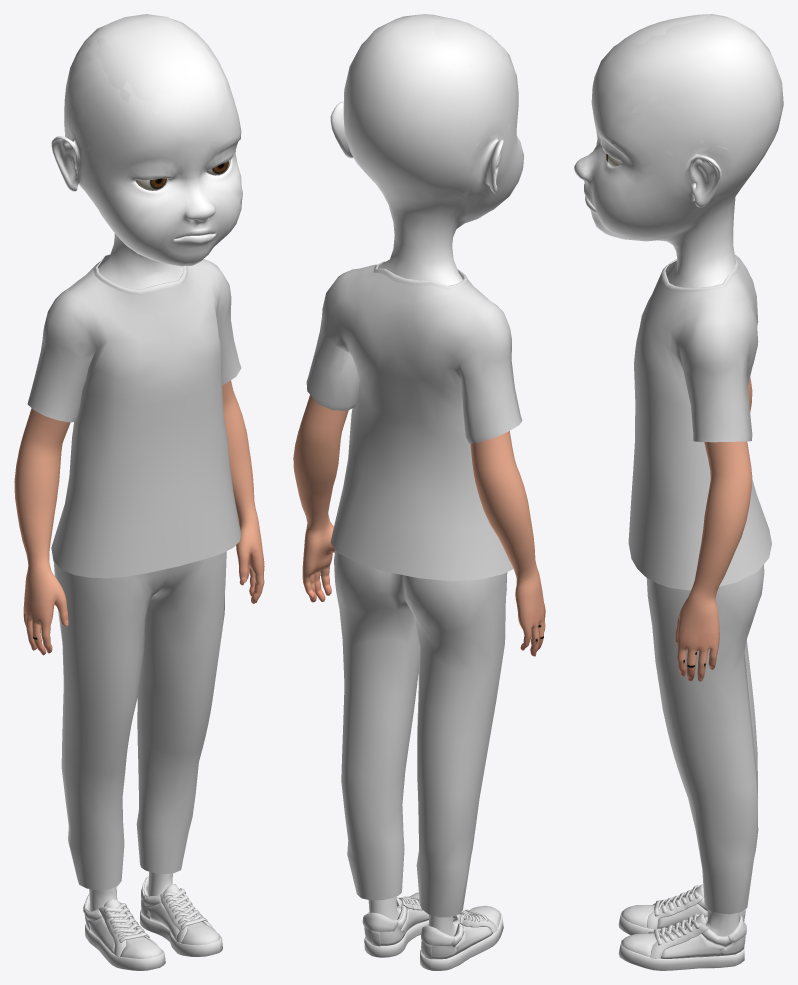
The model's file is Sad2.fbx.
3 views of the same model, side by side, from view 1: azimuth 30°, elevation 25°; view 2: azimuth 150°, elevation 25°; view 3: azimuth 270°, elevation 25° (orthographic).
Visible parts, largest first — view 1: tshirt_low, body_low, pant_low, back_low, body_low.001; view 2: tshirt_low, body_low, pant_low, back_low, body_low.001; view 3: body_low, tshirt_low, pant_low, back_low, body_low.001.
Boxes of the visible parts, <box> form: tshirt_low: <box>27,254,241,578</box>; body_low: <box>14,14,264,911</box>; pant_low: <box>53,551,226,890</box>; back_low: <box>83,876,222,970</box>; body_low.001: <box>65,30,186,150</box>; tshirt_low: <box>306,261,522,581</box>; body_low: <box>293,14,545,936</box>; pant_low: <box>334,549,507,917</box>; back_low: <box>362,892,503,970</box>; body_low.001: <box>374,16,510,199</box>; body_low: <box>574,14,783,936</box>; tshirt_low: <box>628,254,771,590</box>; pant_low: <box>646,564,764,914</box>; back_low: <box>618,884,746,970</box>; body_low.001: <box>603,14,745,199</box>.
Bounding box in the file's own units: 18.63 × 70.45 × 14.51.
